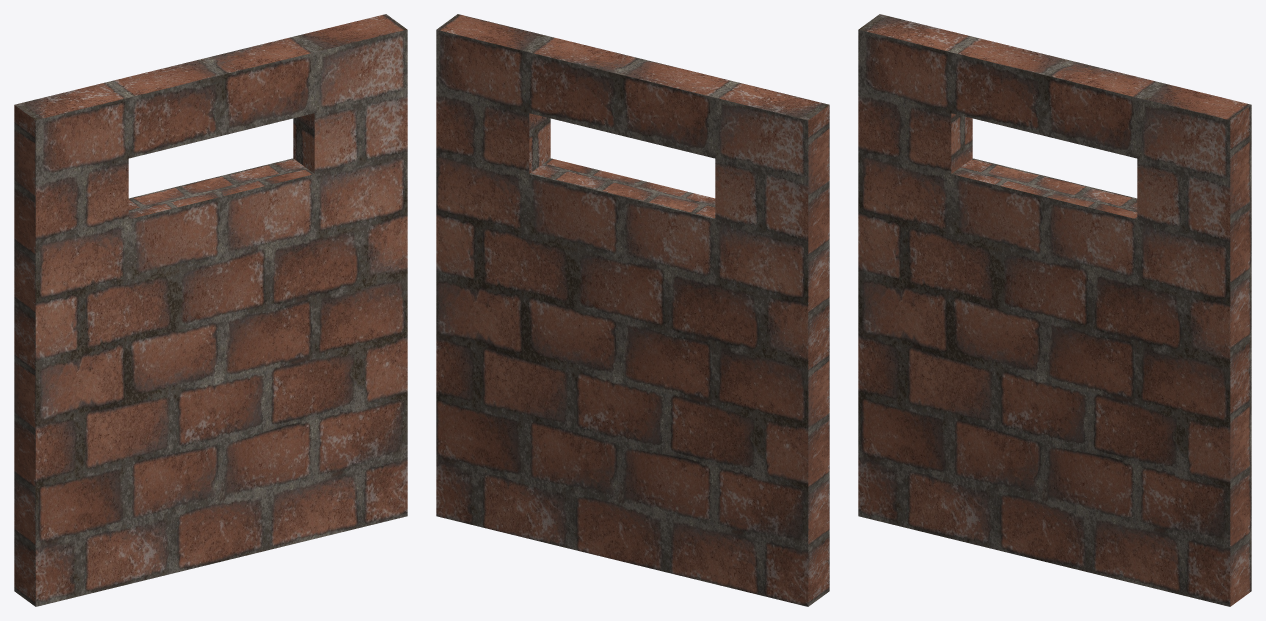
File: BasemanteWall.fbx
The picture shows the model from 3 angles, left to right: view 1: azimuth 30°, elevation 25°; view 2: azimuth 150°, elevation 25°; view 3: azimuth 330°, elevation 25°; orthographic projection.
Parts seen in each view (by area): view 1: Cube.001; view 2: Cube.001; view 3: Cube.001.
Part boxes in pixels (box(x1,y1,x2,y2)): Cube.001: box(14, 14, 407, 606); Cube.001: box(436, 14, 829, 606); Cube.001: box(858, 14, 1251, 606).
Size of the model in its own units: 200 by 250 by 20.
